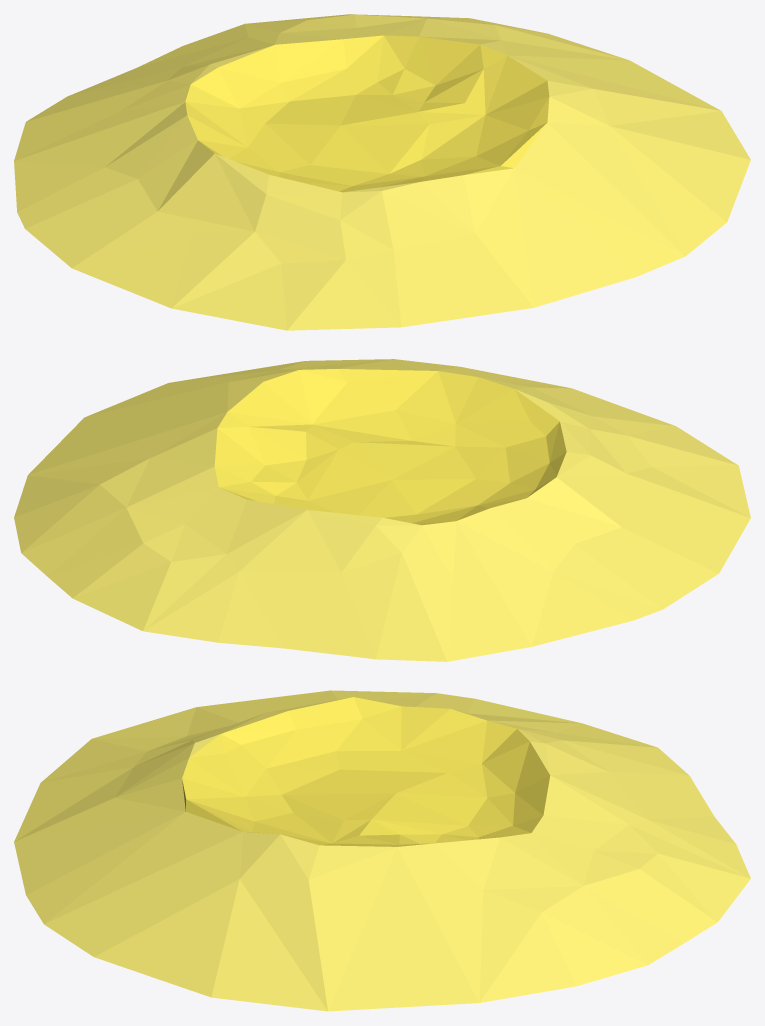
File: Hill_024.fbx
3 renders of one model, top to bottom at view 1: azimuth 30°, elevation 25°; view 2: azimuth 150°, elevation 25°; view 3: azimuth 270°, elevation 25°, orthographic. The views are drawn at different scales.
Visible parts, largest first — view 1: Hill_024; view 2: Hill_024; view 3: Hill_024.
Boxes of the visible parts, x1,y1,x2,y2 form: Hill_024: (14, 14, 750, 330); Hill_024: (14, 359, 750, 661); Hill_024: (14, 690, 750, 1011).
Bounding box in the file's own units: 315 × 306 × 36.73.
1 material, 1 textured.
